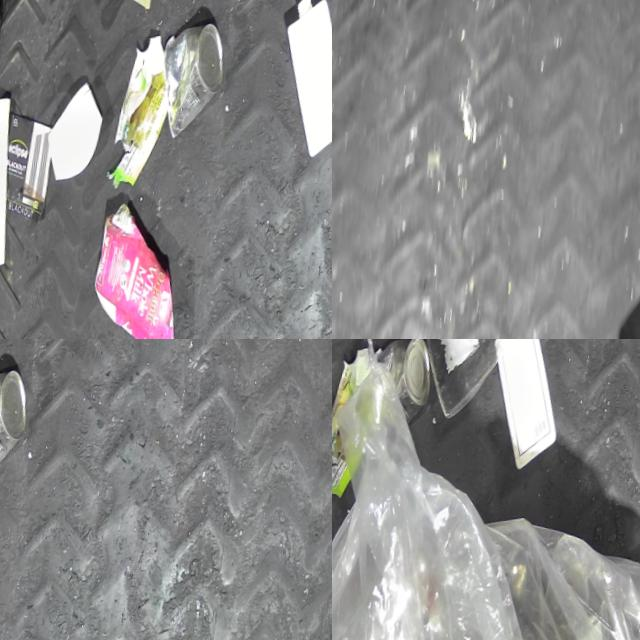can: (150, 20, 228, 149), (362, 339, 433, 433), (0, 367, 30, 496)
milk_jug: (473, 339, 570, 482), (267, 0, 332, 170)
